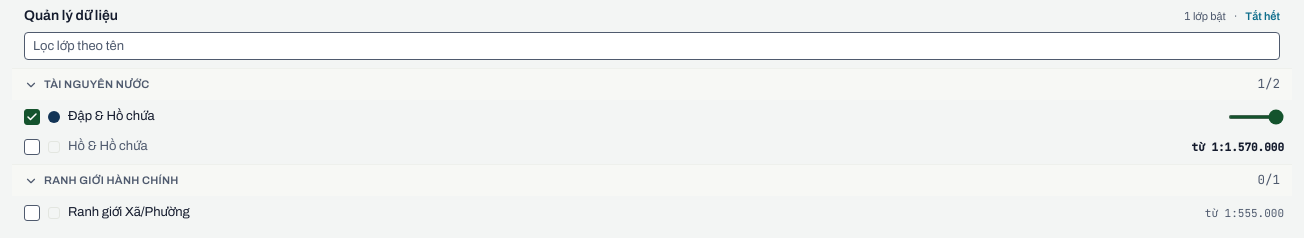
Test: LayersPanelView › says so when the filter matches no layer (Review Focus 2)
Step 1. Type "không có lớp này" into the search field labelled "Lọc lớp" → [652, 46], box [24, 32, 1280, 60]
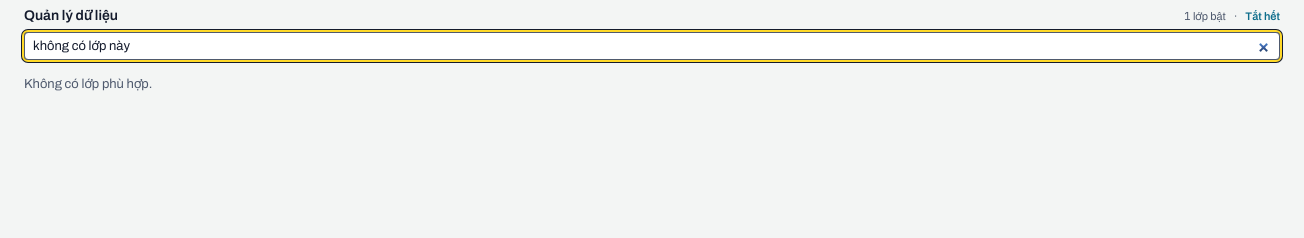
Expected: the message reads "Không có lớp phù hợp.", [24, 77, 152, 91]
Expected: no checkboxes are shown
